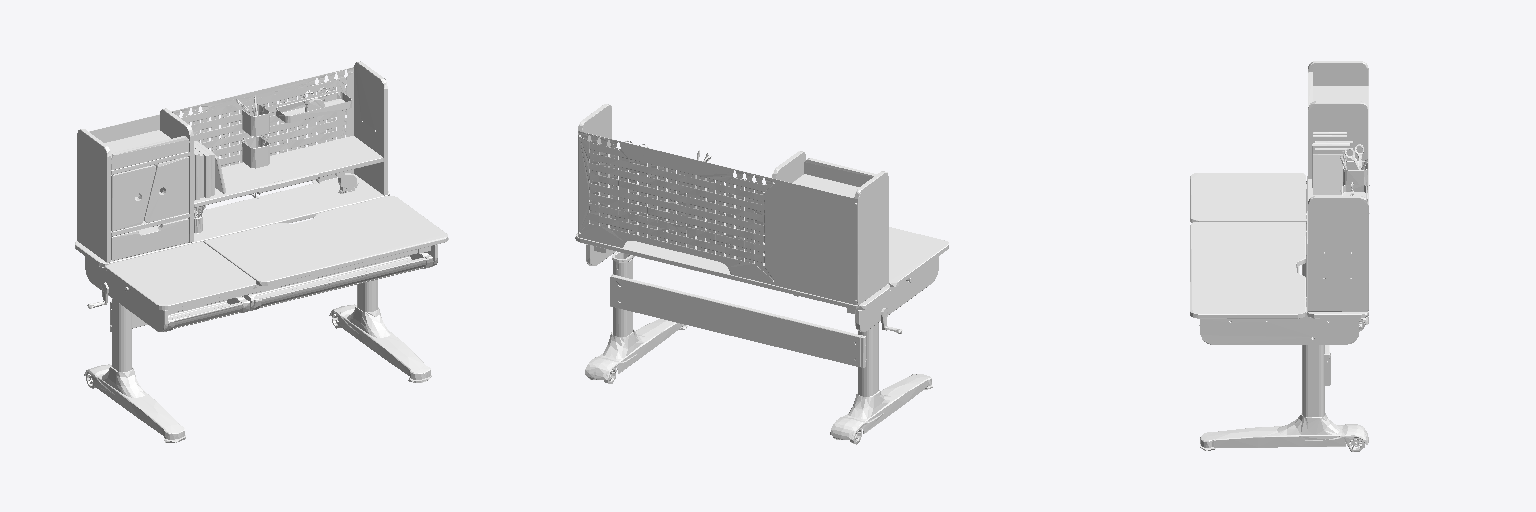
The picture shows the model from 3 angles: view 1: azimuth 30°, elevation 25°; view 2: azimuth 150°, elevation 25°; view 3: azimuth 270°, elevation 25°; orthographic projection.
Visible parts, largest first — view 1: solid_009, solid_004, solid_006, solid_001, solid_005, solid_010, solid_002, solid_021, solid_022; view 2: solid_004, solid_009, solid_001, solid_002, solid_006; view 3: solid_009, solid_001, solid_002, solid_037.
Boxes of the visible parts, x1=… form: solid_009: x1=75, y1=61, x2=448, y2=331; solid_004: x1=89, y1=67, x2=430, y2=314; solid_006: x1=111, y1=136, x2=425, y2=327; solid_001: x1=84, y1=280, x2=430, y2=439; solid_005: x1=110, y1=90, x2=351, y2=326; solid_010: x1=164, y1=253, x2=433, y2=331; solid_002: x1=86, y1=305, x2=431, y2=442; solid_021: x1=242, y1=136, x2=269, y2=168; solid_022: x1=242, y1=104, x2=269, y2=136; solid_004: x1=578, y1=131, x2=857, y2=313; solid_009: x1=575, y1=104, x2=948, y2=367; solid_001: x1=585, y1=259, x2=931, y2=439; solid_002: x1=587, y1=252, x2=932, y2=444; solid_006: x1=804, y1=158, x2=876, y2=186; solid_009: x1=1190, y1=61, x2=1368, y2=361; solid_001: x1=1200, y1=224, x2=1368, y2=447; solid_002: x1=1199, y1=213, x2=1364, y2=451; solid_037: x1=1313, y1=155, x2=1346, y2=194.
Size of the model in its own units: 1.52 by 1.24 by 0.7836.